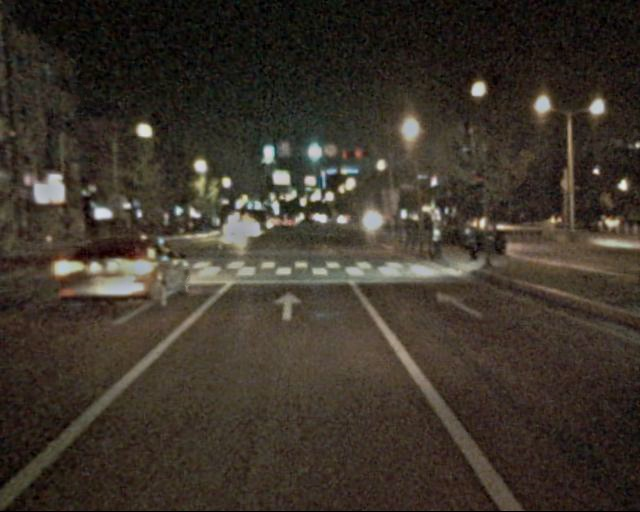person: (465, 218, 486, 271), (429, 218, 449, 266)
